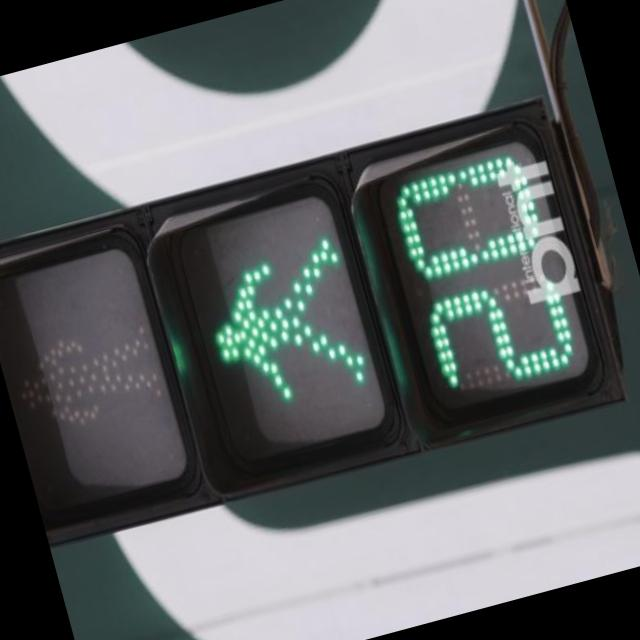green_light: (176, 140, 586, 472)
